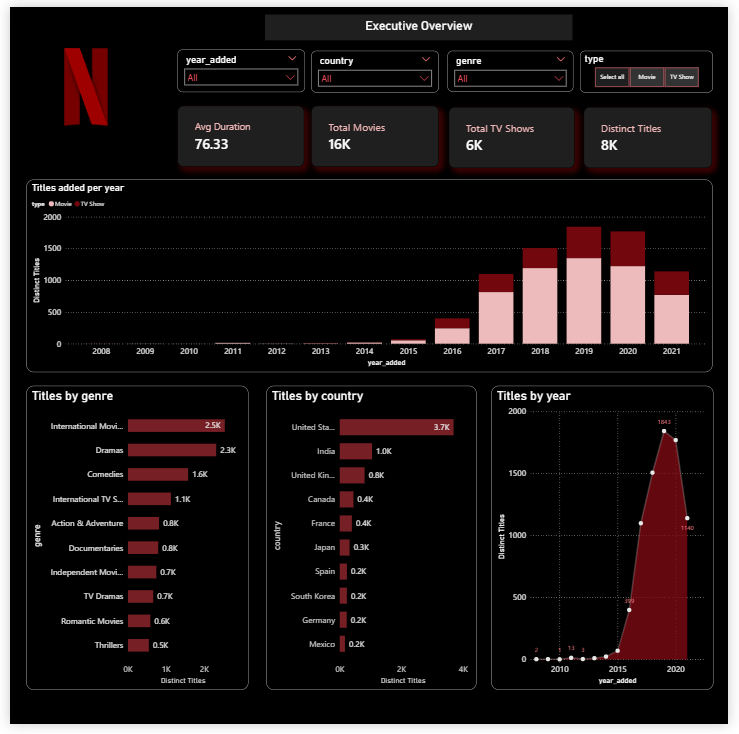

This screenshot's page, from the dashboard's own definition file:
{"tool":"powerbi","page":{"name":"Executive overview","canvas":[1400,1400],"ordinal":0},"visuals":[{"type":"cardVisual","fields":{"Data":["netflix_final.Distinct Titles"]},"box":[1120.5,194.5,250.3,119.1],"z":0},{"type":"cardVisual","fields":{"Data":["netflix_final.Total Movies"]},"box":[588.1,193,248.8,119.1],"z":1000},{"type":"cardVisual","fields":{"Data":["netflix_final.Total TV Shows"]},"box":[855.1,194.5,245.8,119.1],"z":2000},{"type":"cardVisual","fields":{"Data":["netflix_final.Avg Duration"]},"box":[327.2,193,247.3,119.1],"z":3000},{"type":"lineChart","title":"Titles by year","fields":{"Category":["netflix_final.year_added"],"Y":["netflix_final.Distinct Titles"]},"box":[938.3,738.9,434,593.5],"z":4000},{"type":"columnChart","title":"Titles added per year","fields":{"Series":["netflix_final.type"],"Category":["netflix_final.year_added"],"Y":["netflix_final.Distinct Titles"]},"box":[32.2,335.8,1339.1,376],"z":5000},{"type":"clusteredBarChart","title":"Titles by country","fields":{"Category":["netflix_final.country"],"Y":["netflix_final.Distinct Titles"]},"box":[499.7,738.9,410.5,593.5],"z":6000},{"type":"clusteredBarChart","title":"Titles by genre","fields":{"Category":["netflix_final.genre"],"Y":["netflix_final.Distinct Titles"]},"box":[32.8,738.9,434,593.5],"z":7000},{"type":"slicer","fields":{"Values":["netflix_final.year_added"]},"box":[325.7,82.9,248.8,82.9],"z":8000},{"type":"slicer","fields":{"Values":["netflix_final.country"]},"box":[588.1,84.5,248.8,81.4],"z":9000},{"type":"slicer","fields":{"Values":["netflix_final.genre"]},"box":[853.6,86,245.8,79.9],"z":10000},{"type":"slicer","title":"type","fields":{"Values":["netflix_final.type"]},"box":[1111.4,84.5,259.4,81.4],"z":11000},{"type":"image","box":[0,0,308.7,313],"z":12000},{"type":"bookmarkNavigator","title":"Executive Overview","box":[498,14,600,50.7],"z":13000}]}

Visuals, with their boxes in screenshot pixels (x1, y1, x2, y2), scaled from the page's 1400x1400 canvas onto the 739x734 screenshot:
cardVisual - netflix_final.Distinct Titles: select_region(591, 102, 724, 164)
cardVisual - netflix_final.Total Movies: select_region(310, 101, 442, 164)
cardVisual - netflix_final.Total TV Shows: select_region(451, 102, 581, 164)
cardVisual - netflix_final.Avg Duration: select_region(173, 101, 303, 164)
"Titles by year" lineChart: select_region(495, 387, 724, 699)
"Titles added per year" columnChart: select_region(17, 176, 724, 373)
"Titles by country" clusteredBarChart: select_region(264, 387, 480, 699)
"Titles by genre" clusteredBarChart: select_region(17, 387, 246, 699)
slicer - netflix_final.year_added: select_region(172, 43, 303, 87)
slicer - netflix_final.country: select_region(310, 44, 442, 87)
slicer - netflix_final.genre: select_region(451, 45, 580, 87)
"type" slicer: select_region(587, 44, 724, 87)
image: select_region(0, 0, 163, 164)
"Executive Overview" bookmarkNavigator: select_region(263, 7, 580, 34)
